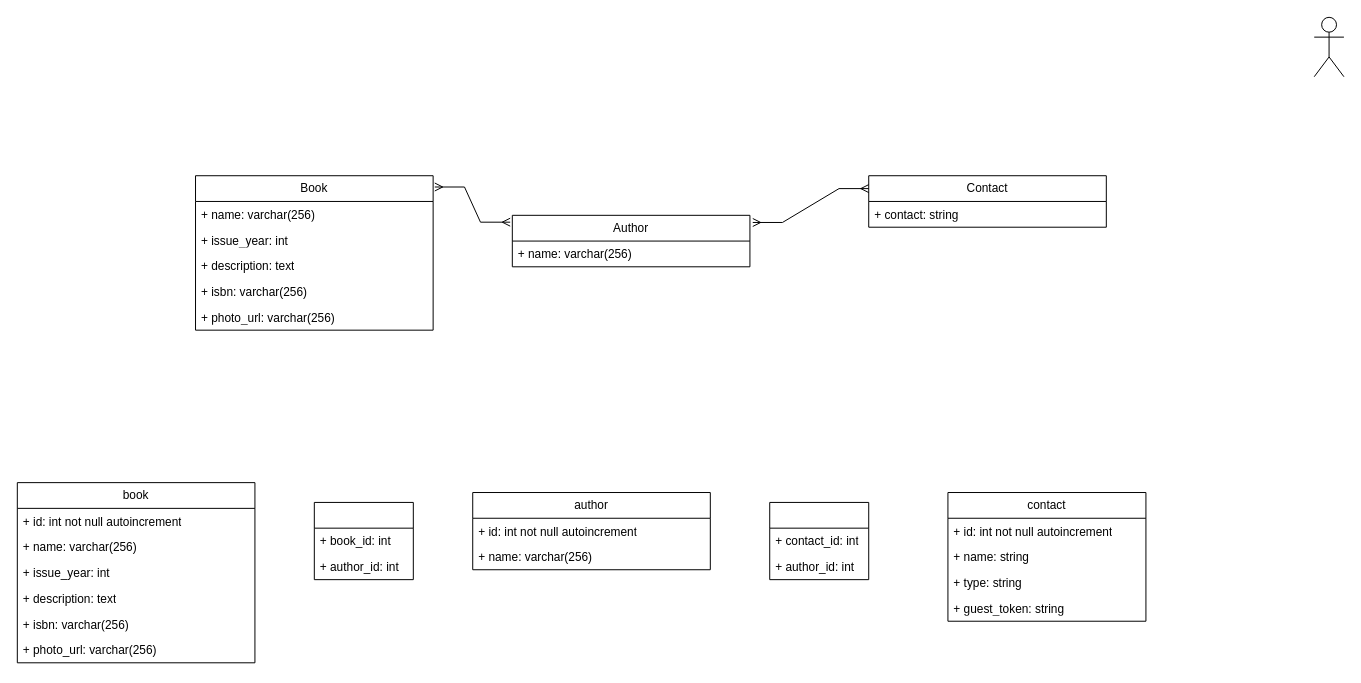
Image size: 1361x683. Some labels were removed from this diagram. The shapes that lost their labels are listed below. From the top down, each one's box as (x1, y1, x2, y2) in pixels, then its label:
(1313, 16, 1344, 77): User
(313, 501, 413, 580): book_author
(769, 501, 869, 580): contact_author
